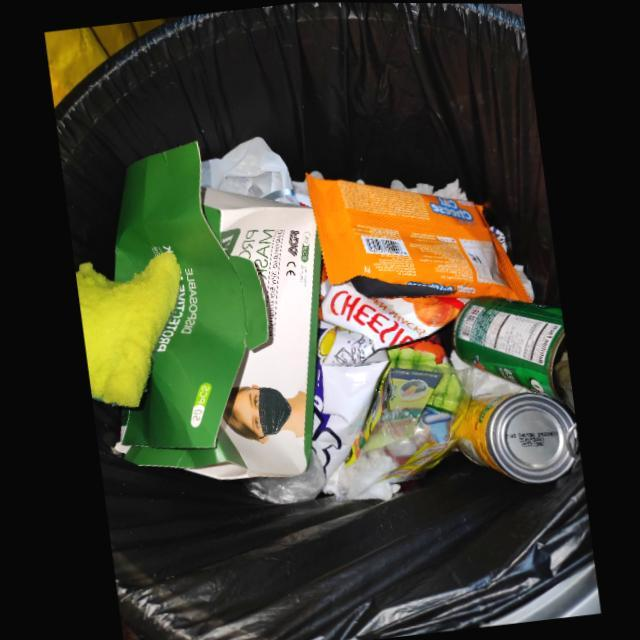metal: (451, 294, 575, 413), (459, 390, 575, 482)
paper: (111, 138, 320, 478)
wrapper: (311, 278, 469, 477), (306, 172, 532, 301), (354, 369, 443, 458)
